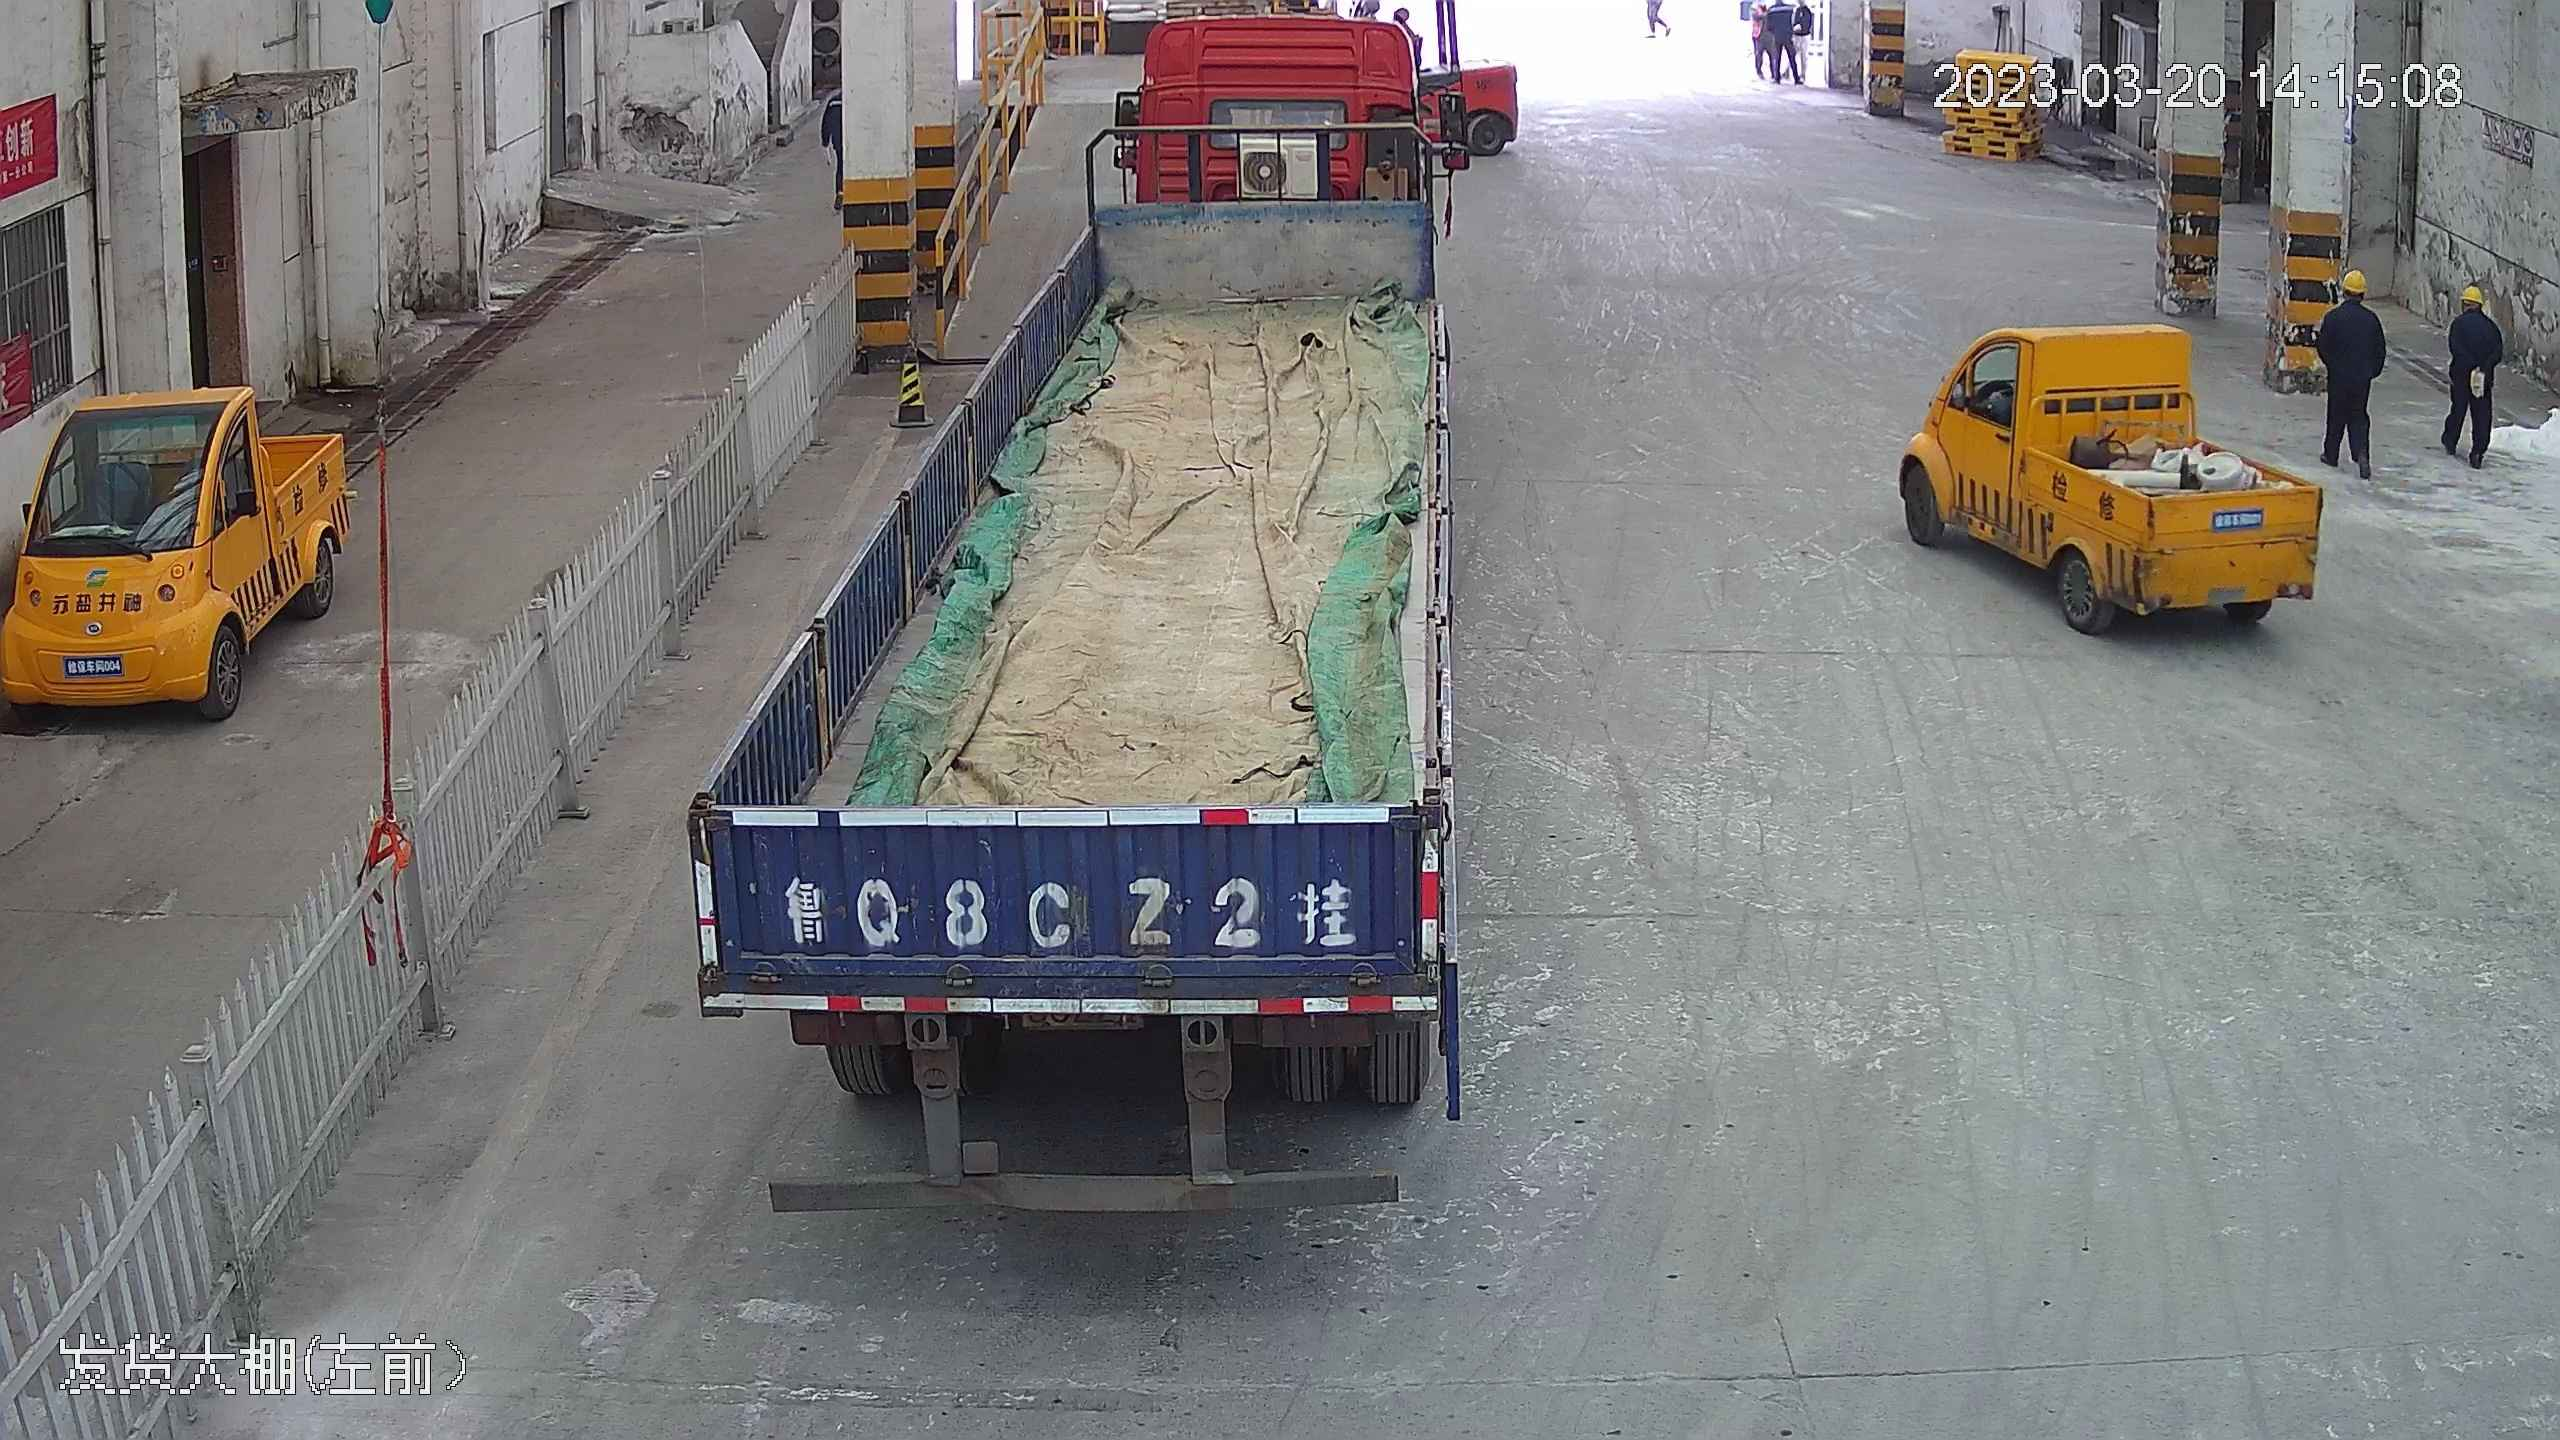head: (2318, 268, 2384, 335), (2448, 285, 2502, 342)
helmet: (2339, 266, 2370, 290), (2459, 286, 2487, 309)
people: (2309, 270, 2388, 475), (2433, 280, 2506, 466)
truck: (699, 0, 1484, 1210)
